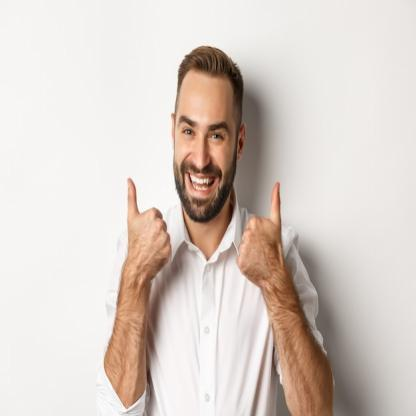thumb_up: (122, 172, 178, 284), (236, 176, 290, 286)
